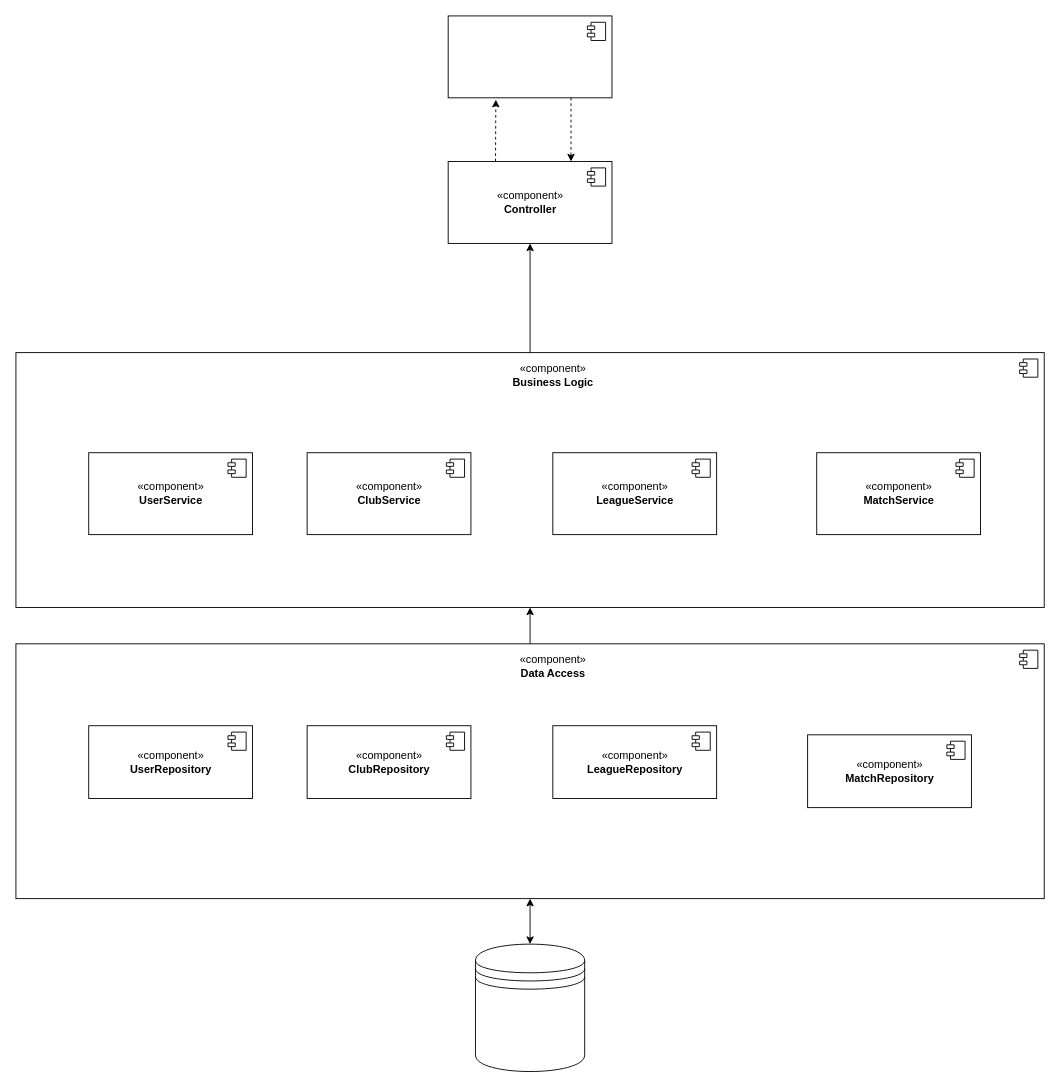
This 1060x1087 diagram has some shape labels left out. Here are the shapes that lost their labels. From the top down, the centre of each, then its label:
At [529,56]: "«component» User Interface".
At [530,1007]: "DataBase".
